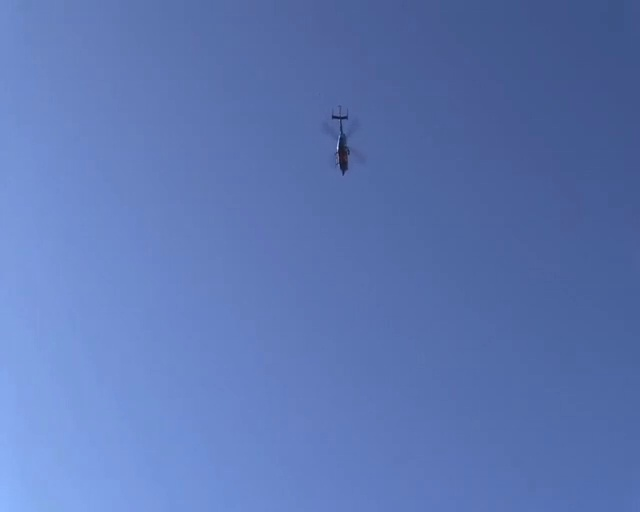HELICOPTER: (323, 104, 367, 176)
